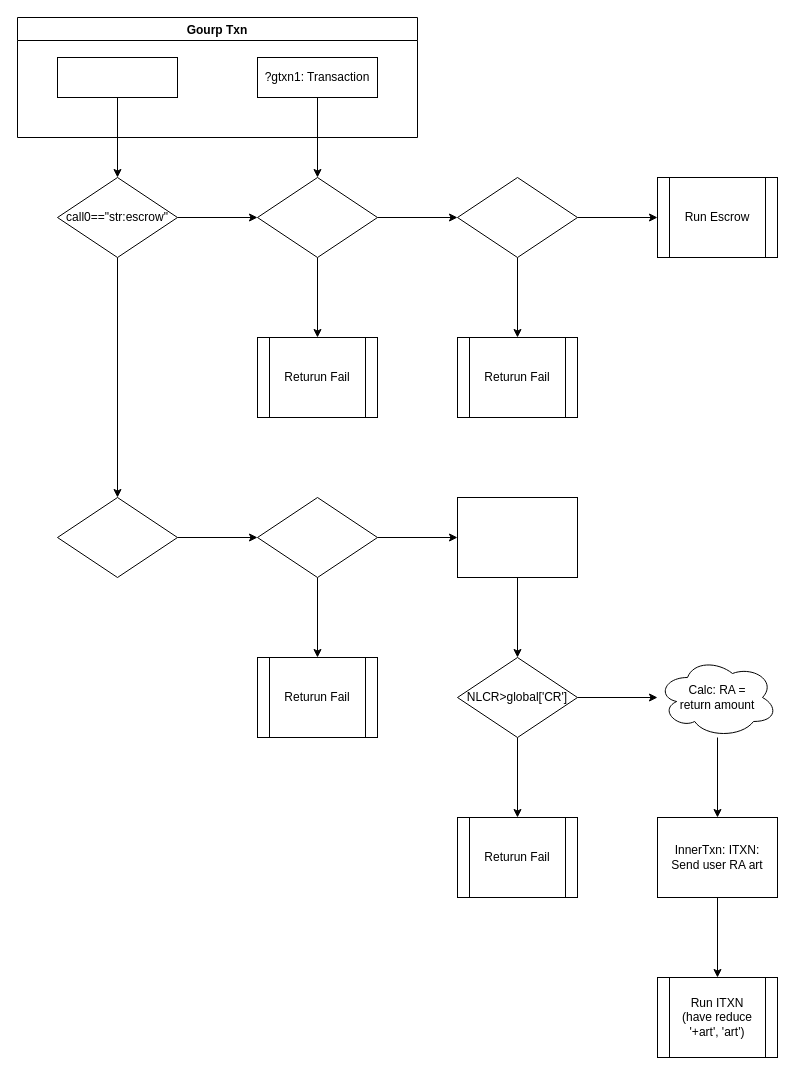
The diagram is 795 pixels wide and 1075 high, and some of its shapes have lost their labels. The centre of each missing label's shape, as x and y in pixels:
calc: NLCR = new local CR: point (517, 537)
call0=="str:redeem": point (117, 537)
call0==gtxn1 amount: point (517, 217)
gtxn0: Call App gtxn0 arg X = callX: point (117, 77)
Has gtxn1: point (317, 217)
local['art']>call1: point (317, 537)
